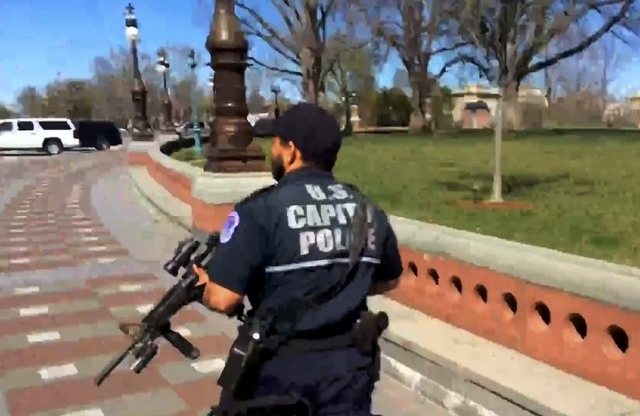rifle: (92, 222, 247, 402)
